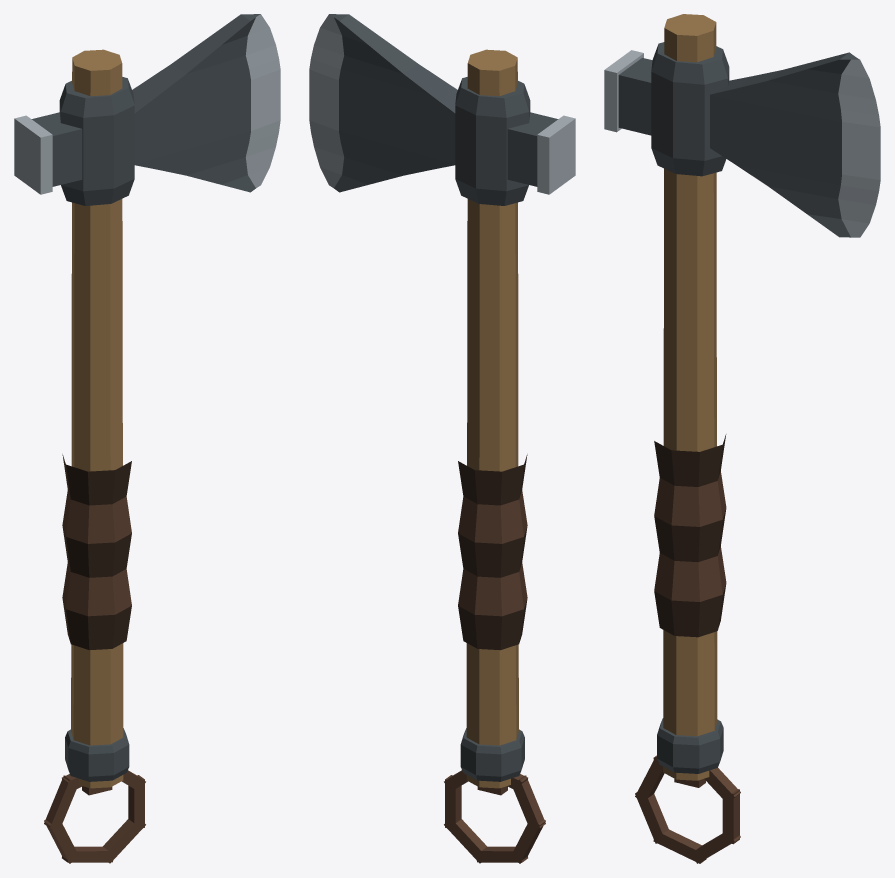
The model's file is mdvl_weapons_handaxe_01.glb.
3 views of the same model, side by side, from view 1: azimuth 30°, elevation 25°; view 2: azimuth 150°, elevation 25°; view 3: azimuth 330°, elevation 25° (orthographic). The views are drawn at different scales.
Visible parts, largest first — view 1: mdvl_weapons_handaxe_01; view 2: mdvl_weapons_handaxe_01; view 3: mdvl_weapons_handaxe_01.
Part boxes in pixels (box(x1,y1,x2,y2)): mdvl_weapons_handaxe_01: box(14, 14, 280, 863); mdvl_weapons_handaxe_01: box(309, 14, 575, 863); mdvl_weapons_handaxe_01: box(604, 14, 880, 863).
Bounding box in the file's own units: 0.167 × 0.5106 × 0.0412.
Materials: 1 (1 with a texture image).
